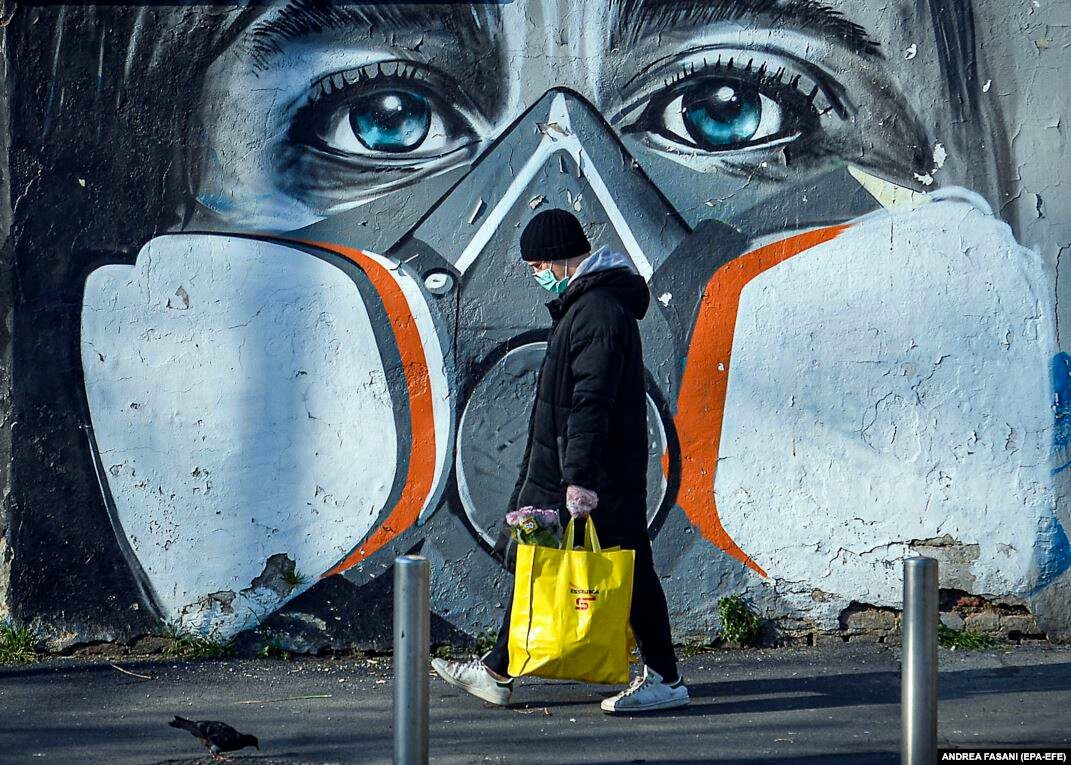with_mask: (519, 215, 593, 301)
